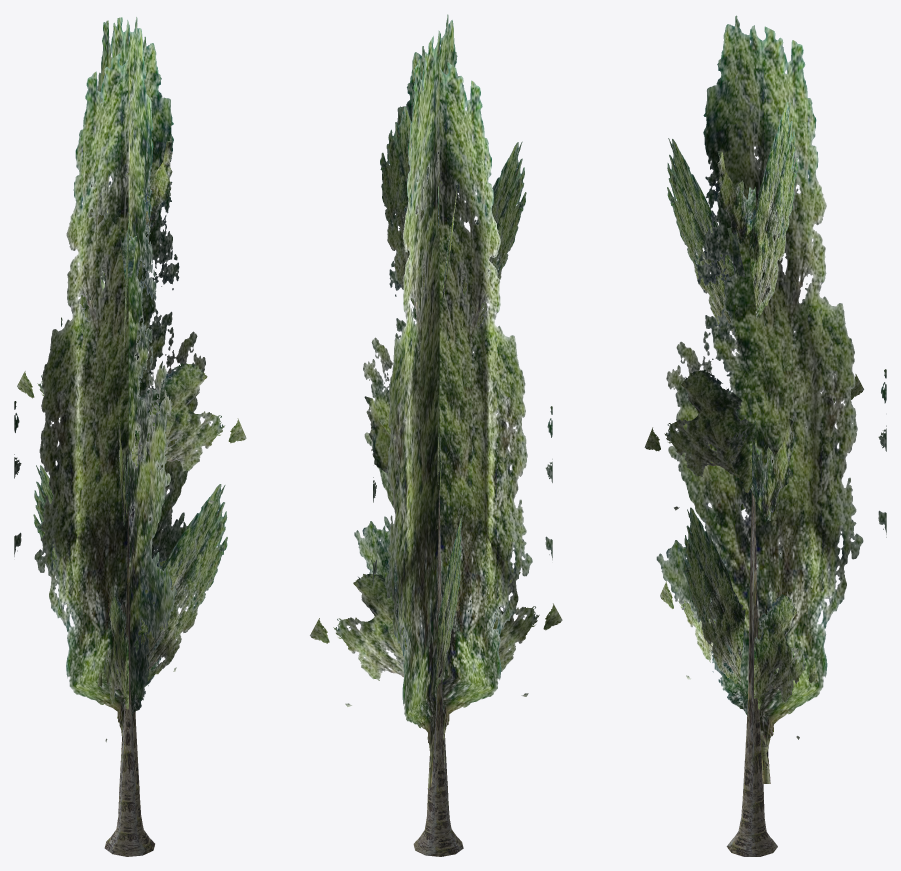
Rendered from SM_FOL_Poplar_A_01.fbx.
3 views of the same model, side by side, from view 1: azimuth 30°, elevation 25°; view 2: azimuth 150°, elevation 25°; view 3: azimuth 270°, elevation 25° (orthographic).
Parts seen in each view (by area): view 1: Plane.001; view 2: Plane.001; view 3: Plane.001.
Part boxes in pixels (left/top/right/bottom): Plane.001: left=14, top=17, right=246, bottom=856; Plane.001: left=310, top=14, right=562, bottom=856; Plane.001: left=644, top=15, right=886, bottom=856.
Bounding box in the file's own units: 1395 × 4349 × 1395.
Materials: 2 (2 with a texture image).
